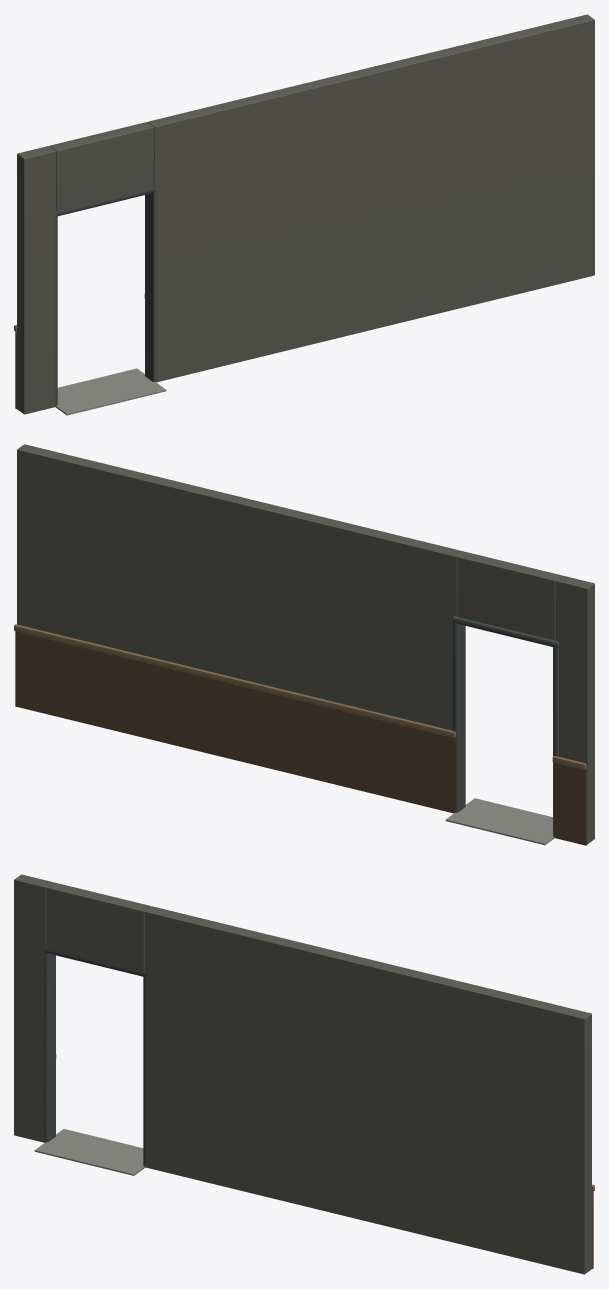
The model's file is BlackMarket_RearLining62.fbx.
3 views of the same model, one above another, from view 1: azimuth 30°, elevation 25°; view 2: azimuth 150°, elevation 25°; view 3: azimuth 330°, elevation 25° (orthographic).
Parts seen in each view (by area): view 1: BlackMarket_RearLining62; view 2: BlackMarket_RearLining62; view 3: BlackMarket_RearLining62.
Boxes of the visible parts, x1,y1,x2,y2 form: BlackMarket_RearLining62: (14,14,594,415); BlackMarket_RearLining62: (14,444,594,845); BlackMarket_RearLining62: (14,874,594,1274).
Bounding box in the file's own units: 700 × 301 × 62.
